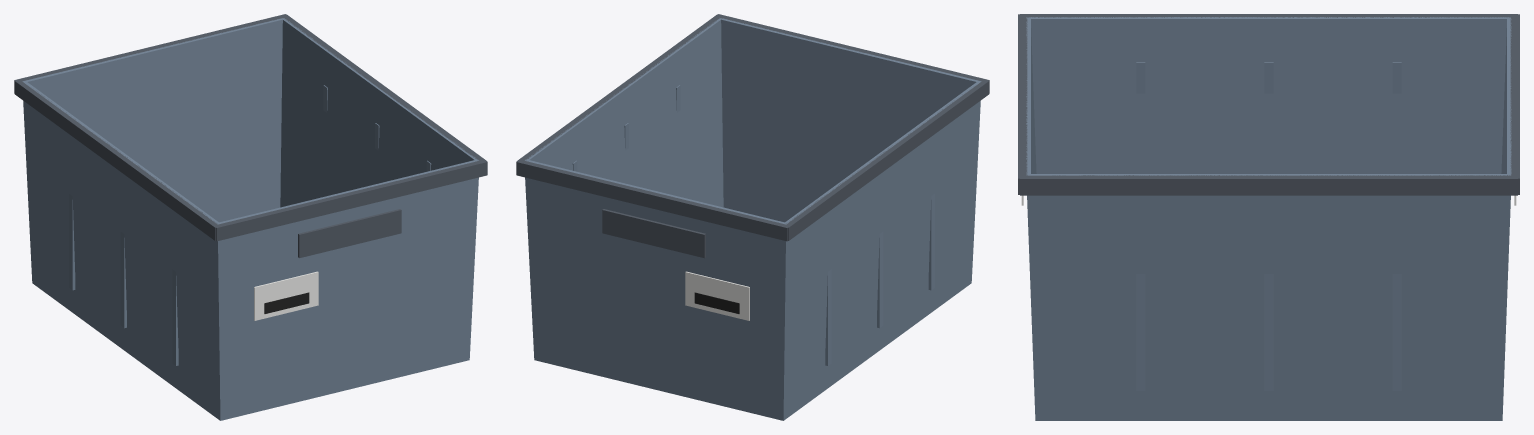
File: airrob_tote_v0.fbx
3 renders of one model, left to right at view 1: azimuth 30°, elevation 25°; view 2: azimuth 150°, elevation 25°; view 3: azimuth 270°, elevation 25°, orthographic. The views are drawn at different scales.
Parts seen in each view (by area): view 1: AirRobTote_v0; view 2: AirRobTote_v0; view 3: AirRobTote_v0.
Part boxes in pixels (x1,y1,x2,y2): AirRobTote_v0: [14, 14, 487, 420]; AirRobTote_v0: [516, 14, 989, 420]; AirRobTote_v0: [1018, 14, 1519, 420].
Bounding box in the file's own units: 0.426 × 0.3 × 0.548.
